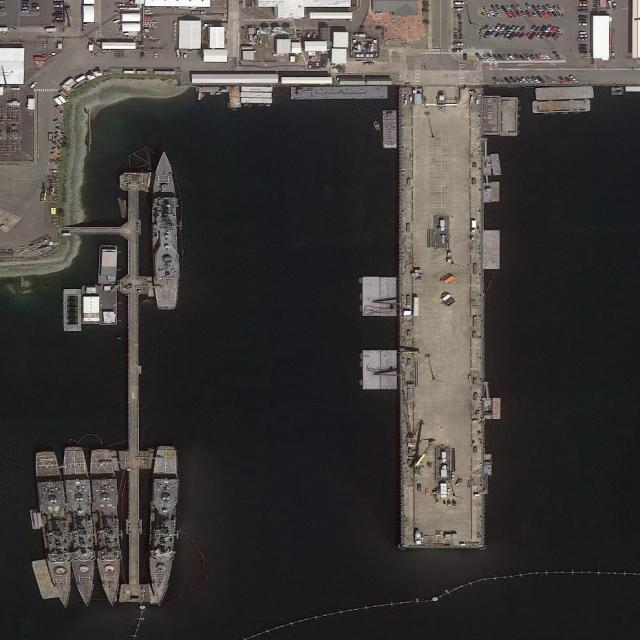Dock: (400, 85, 486, 548), (120, 174, 153, 601)
Frigate: (34, 449, 75, 608), (62, 444, 99, 608), (145, 445, 180, 606), (91, 448, 122, 606), (151, 151, 180, 310)
